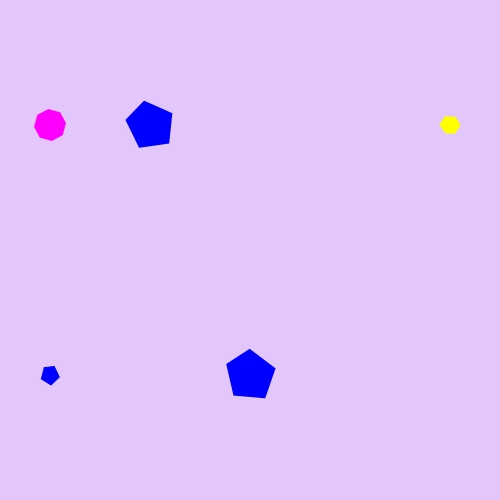hexagon: (435, 112, 465, 138)
octagon: (30, 105, 70, 145)
pentagon: (222, 347, 279, 404), (123, 98, 177, 152), (36, 361, 64, 389)
